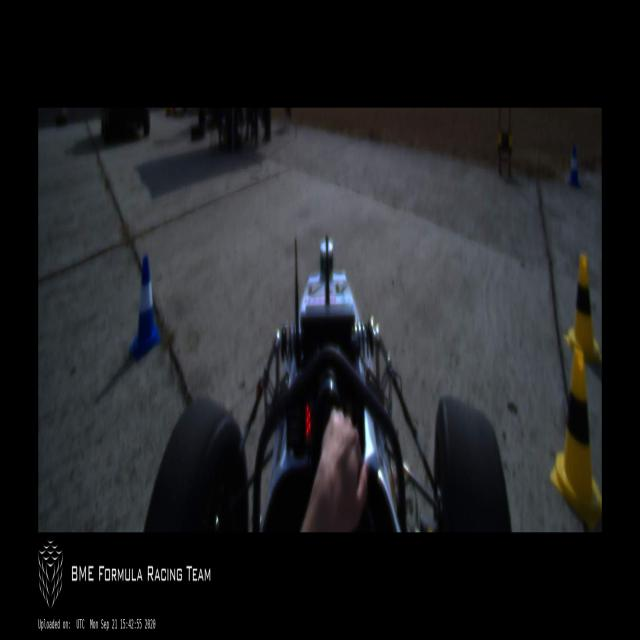blue_cone: (130, 255, 160, 363), (566, 145, 580, 190)
yellow_cone: (550, 348, 602, 529), (564, 253, 602, 367)
